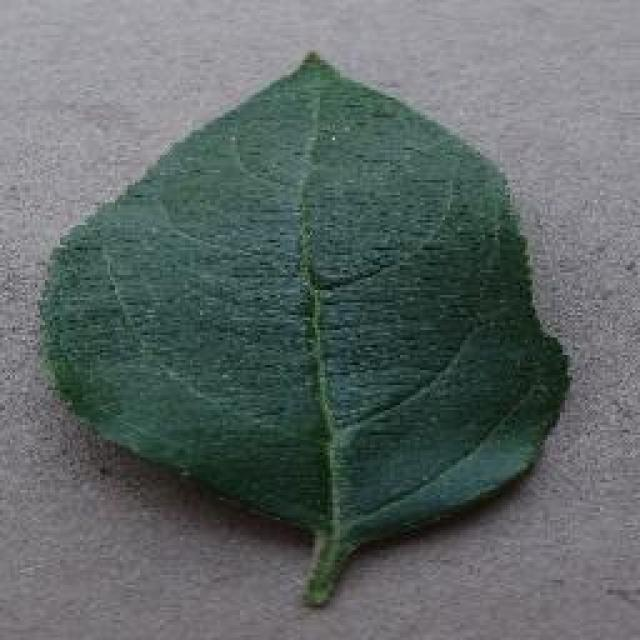apple healthy: (35, 47, 573, 605)
